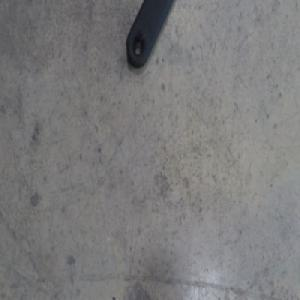AdjustableWrench: (126, 0, 168, 67)
